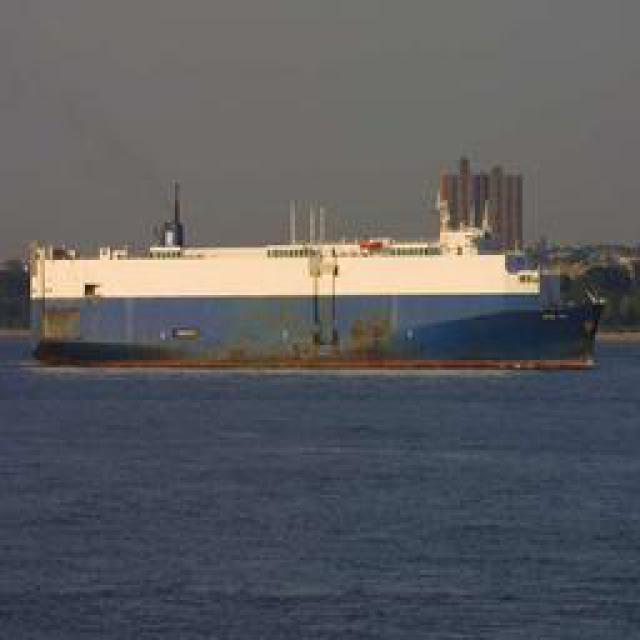Ship: (19, 238, 612, 356)
